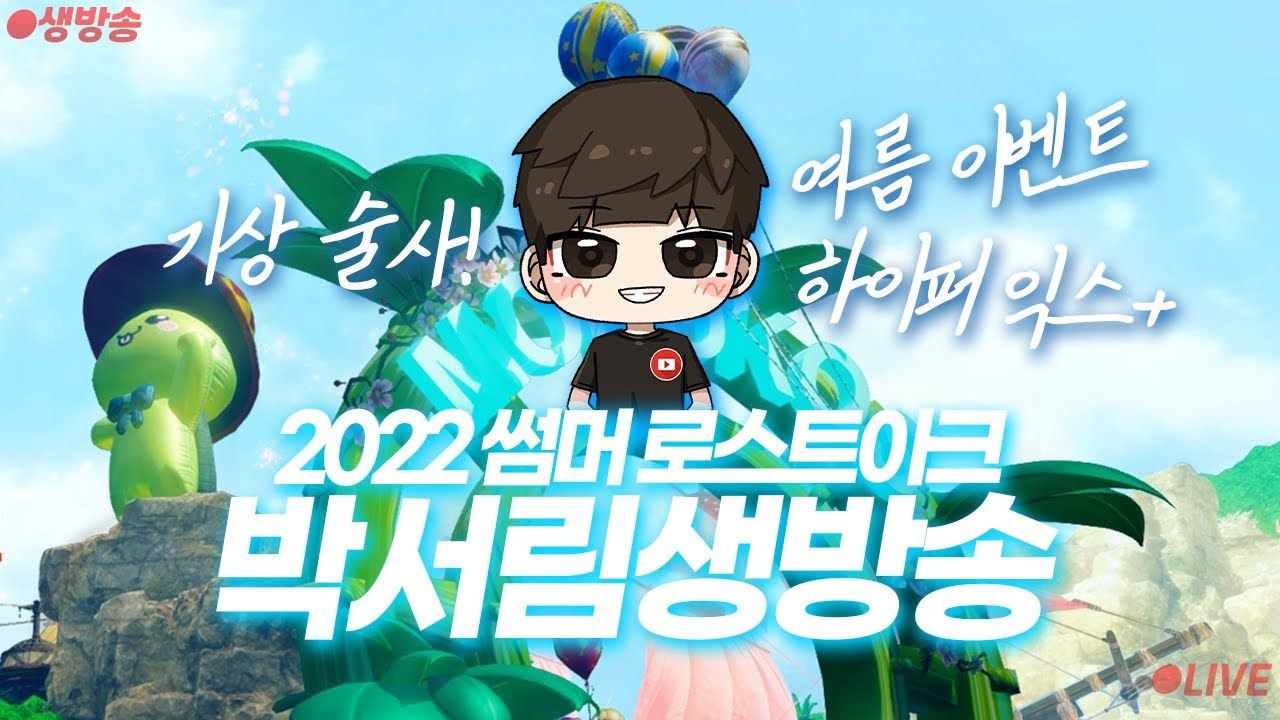2022: (271, 406, 474, 487)
기상 술사!: (164, 186, 484, 294)
로스트아크: (636, 406, 1009, 491)
박서림: (215, 494, 639, 643)
생방송: (634, 493, 1057, 646), (39, 6, 143, 45)
썸머: (480, 407, 637, 488)
여름: (789, 111, 932, 221)
이벤트: (949, 88, 1151, 212)
하이퍼 익스+: (794, 227, 1178, 354)
